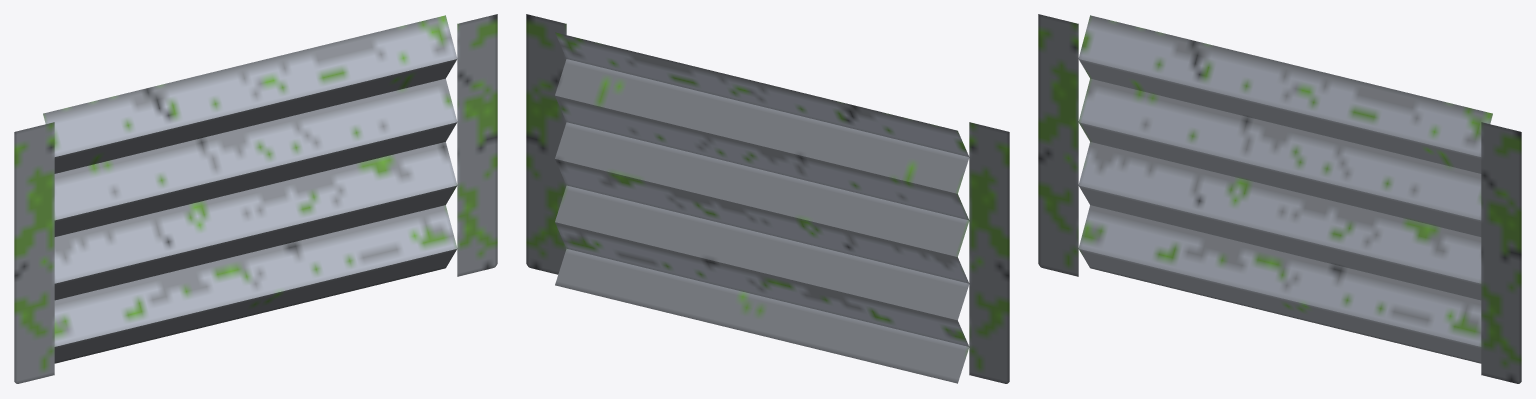
The model's file is TestStairs.fbx.
3 views of the same model, side by side, from view 1: azimuth 30°, elevation 25°; view 2: azimuth 150°, elevation 25°; view 3: azimuth 330°, elevation 25° (orthographic).
Visible parts, largest first — view 1: Plane; view 2: Plane; view 3: Plane.
Part boxes in pixels (x1,y1,x2,y2): Plane: [14, 14, 497, 383]; Plane: [526, 14, 1009, 383]; Plane: [1038, 14, 1521, 383].
Size of the model in its own units: 72 by 36 by 3.
